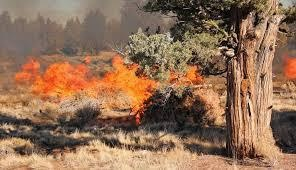fire: (14, 48, 159, 105)
